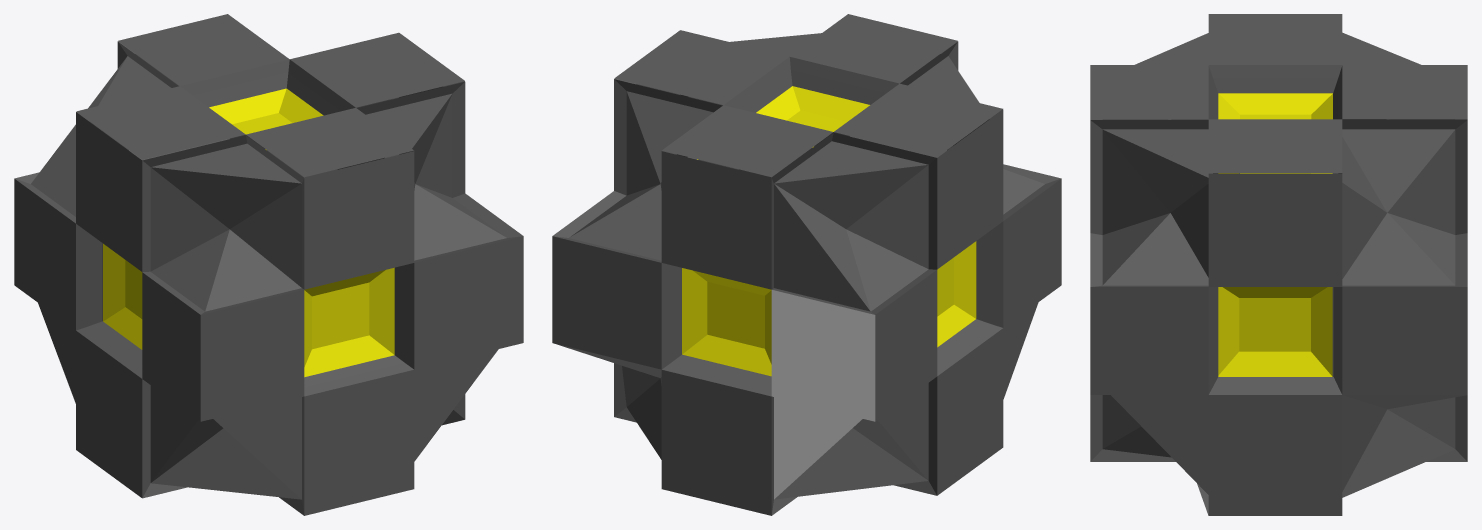
The model's file is Crate.fbx.
The picture shows the model from 3 angles, left to right: view 1: azimuth 30°, elevation 25°; view 2: azimuth 150°, elevation 25°; view 3: azimuth 270°, elevation 25°; orthographic projection.
Parts seen in each view (by area): view 1: ScifiCrate:ScifiCrate; view 2: ScifiCrate:ScifiCrate; view 3: ScifiCrate:ScifiCrate.
Boxes of the visible parts, x1=… form: ScifiCrate:ScifiCrate: x1=14, y1=14, x2=523, y2=515; ScifiCrate:ScifiCrate: x1=552, y1=14, x2=1061, y2=515; ScifiCrate:ScifiCrate: x1=1090, y1=14, x2=1467, y2=515.
Bounding box in the file's own units: 1.07 × 1.07 × 1.07.
